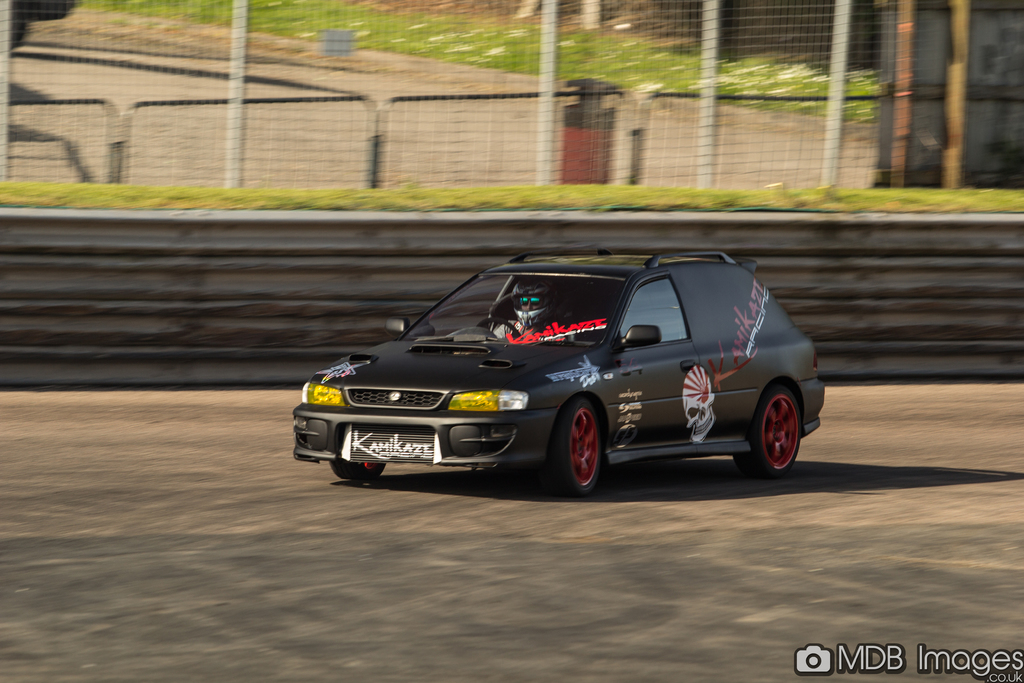Car: (292, 243, 827, 492)
